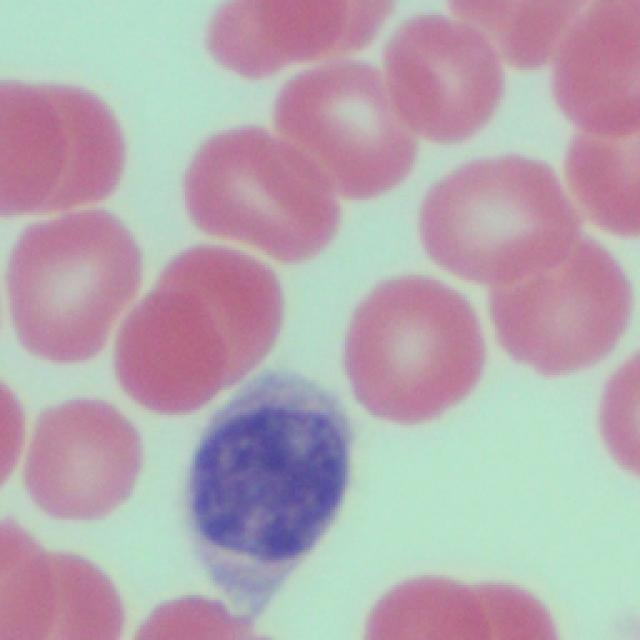RBC: (181, 112, 342, 263), (339, 272, 482, 433), (485, 221, 632, 375), (2, 211, 136, 368), (148, 233, 284, 387), (283, 56, 422, 201), (412, 151, 558, 287), (22, 380, 143, 526), (378, 0, 499, 136), (557, 84, 640, 237), (8, 533, 125, 637), (386, 572, 558, 640), (36, 88, 130, 202), (564, 3, 640, 122), (0, 75, 70, 200), (595, 335, 640, 480)
WBC: (184, 368, 358, 618)
